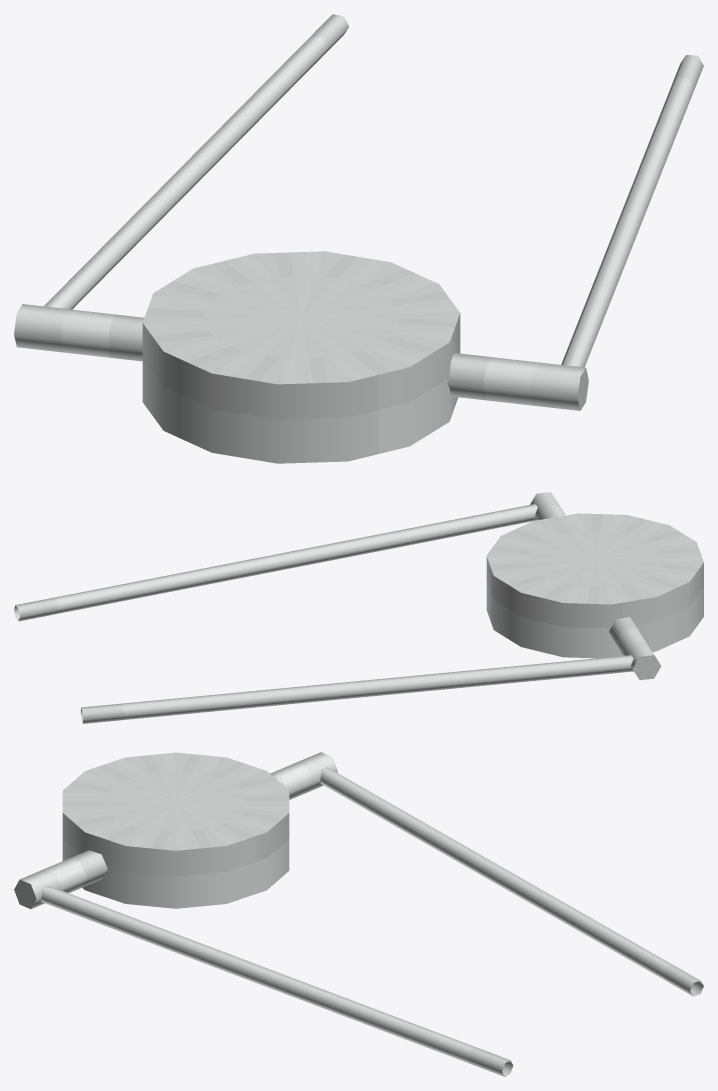
Rendered from nycsignalarm_diagonal4_c0.obj.
The picture shows the model from 3 angles, top to bottom: view 1: azimuth 30°, elevation 25°; view 2: azimuth 150°, elevation 25°; view 3: azimuth 270°, elevation 25°; orthographic projection. The views are drawn at different scales.
Parts seen in each view (by area): view 1: nycsignalarm_diagonal4_c0; view 2: nycsignalarm_diagonal4_c0; view 3: nycsignalarm_diagonal4_c0.
Part boxes in pixels (x1,y1,x2,y2): nycsignalarm_diagonal4_c0: (14,14,703,463); nycsignalarm_diagonal4_c0: (14,492,703,723); nycsignalarm_diagonal4_c0: (14,752,703,1076).
Size of the model in its own units: 2.43 by 0.225 by 2.43.
